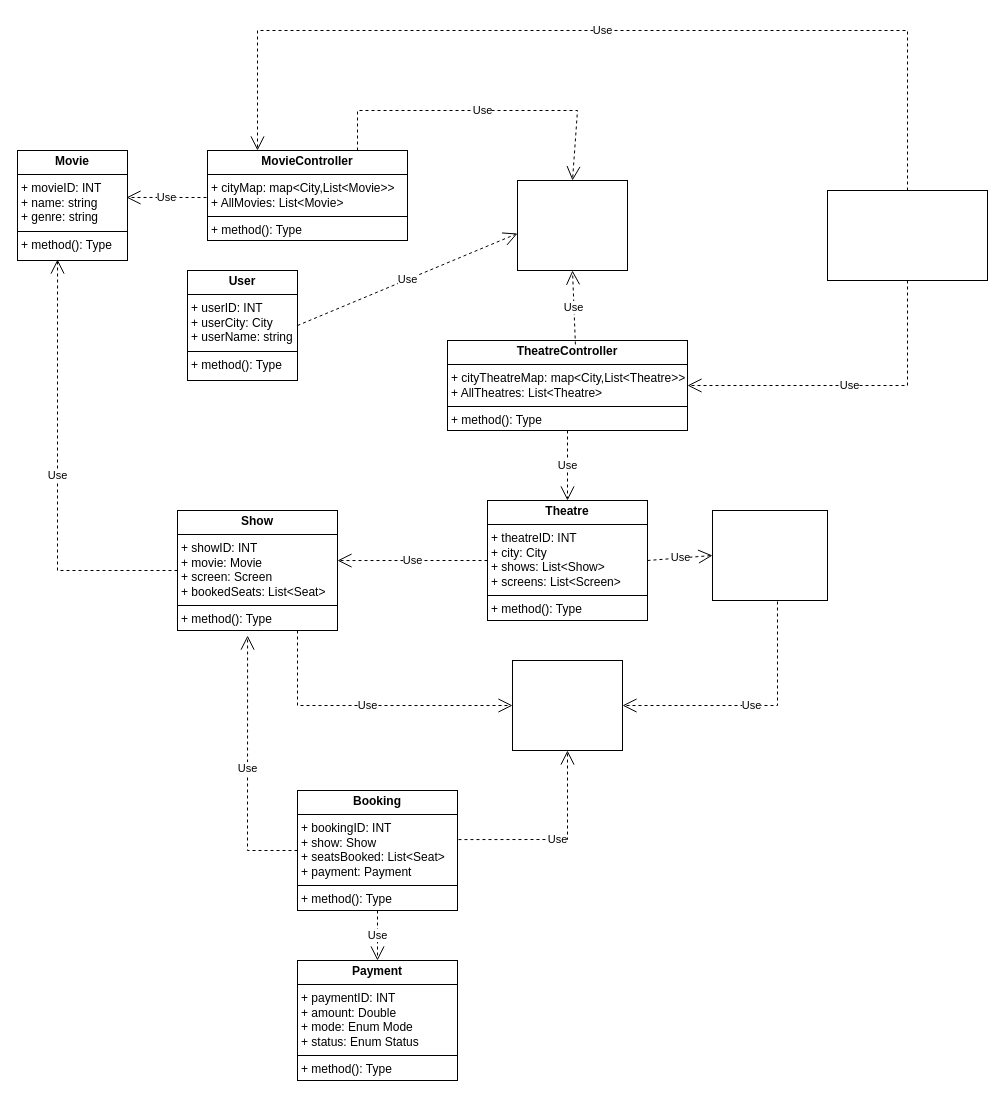
Image size: 1005x1098. Some labels were removed from this diagram. Here are the shapes that lost their labels. From the top down, the centre of each, then its label:
At (x=572, y=225): "City + cityId: INT + name: string + method(): Type".
At (x=907, y=235): "BookMyShow + movieControllerObj + theatreControllerObj + method(): Type".
At (x=770, y=555): "Screen + screenID: INT + seats: List<Seat> + method(): Type".
At (x=567, y=705): "Seat + seatID: INT + row: INT + method(): Type".
